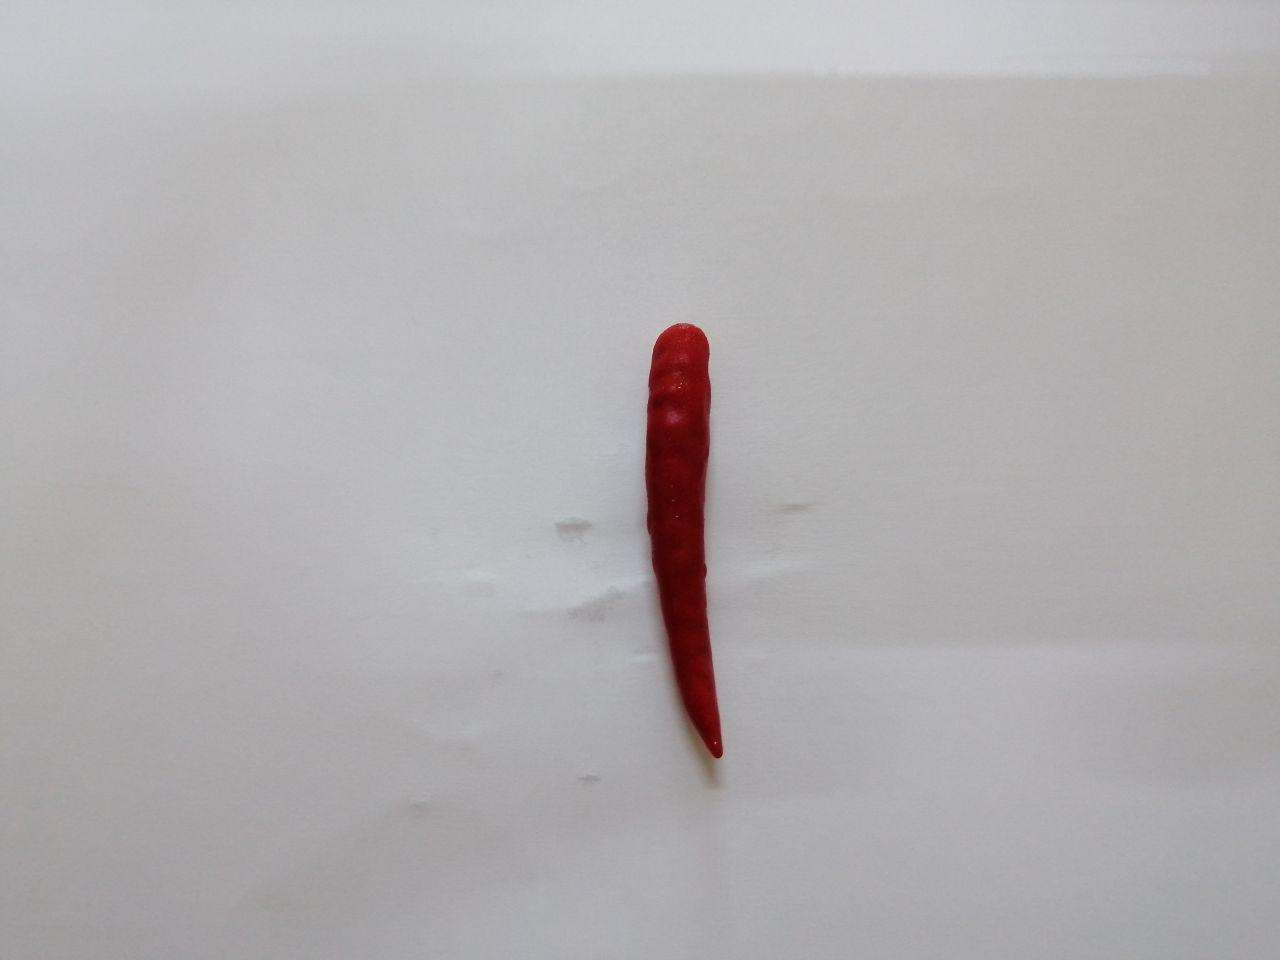lada merah: (631, 308, 760, 772)
